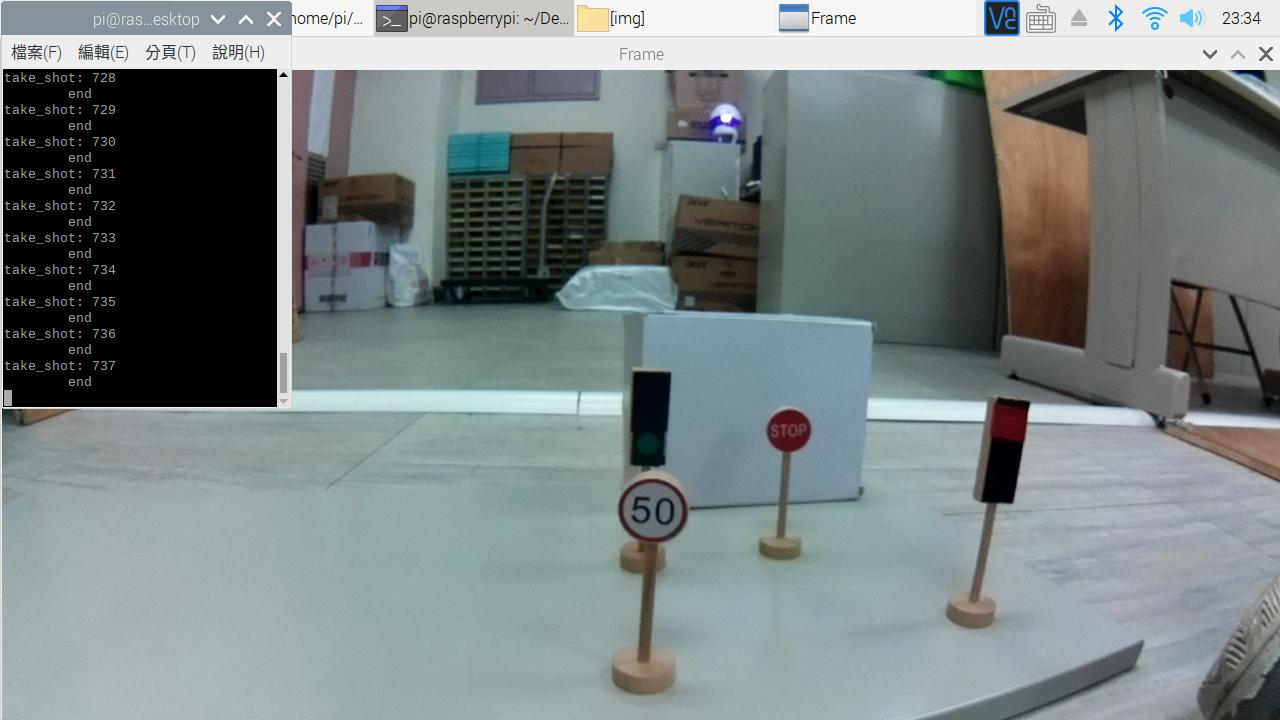Green: (620, 370, 681, 473)
Red: (964, 383, 1035, 511)
Speed50: (609, 466, 699, 557)
Stop: (760, 403, 818, 469)
